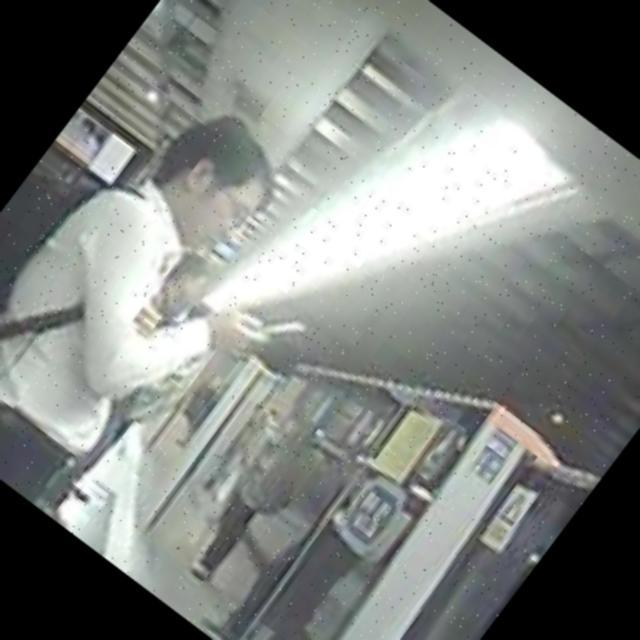person: (0, 65, 365, 557), (0, 237, 241, 523)
